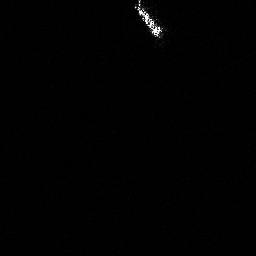ship: (130, 1, 168, 41)
